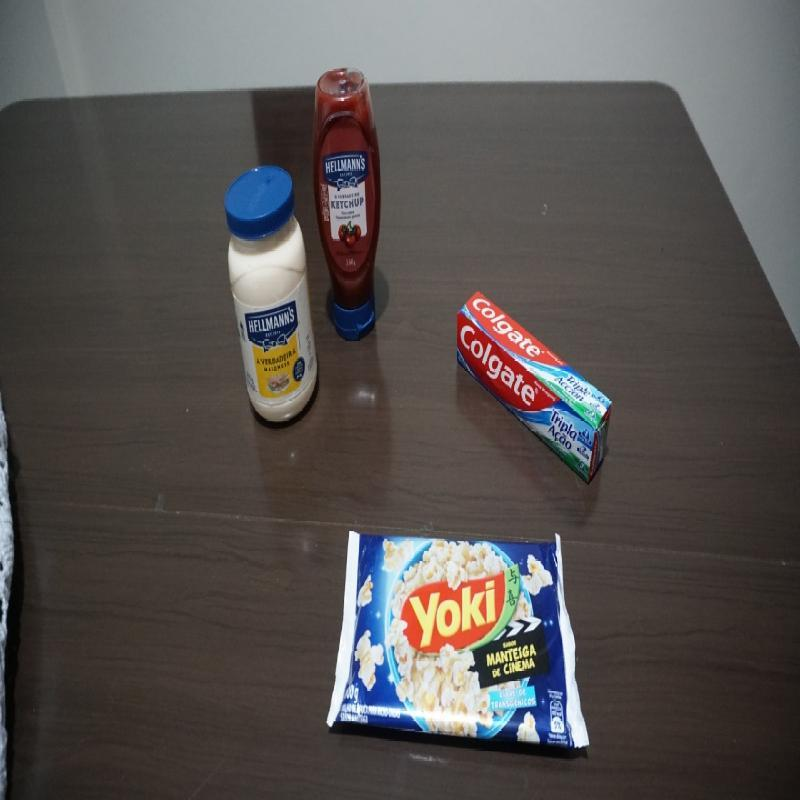Ketchup: (312, 66, 381, 342)
Mayonnaise: (225, 168, 320, 428)
Popcorn: (327, 530, 592, 756)
Toothpaste: (456, 290, 613, 484)
